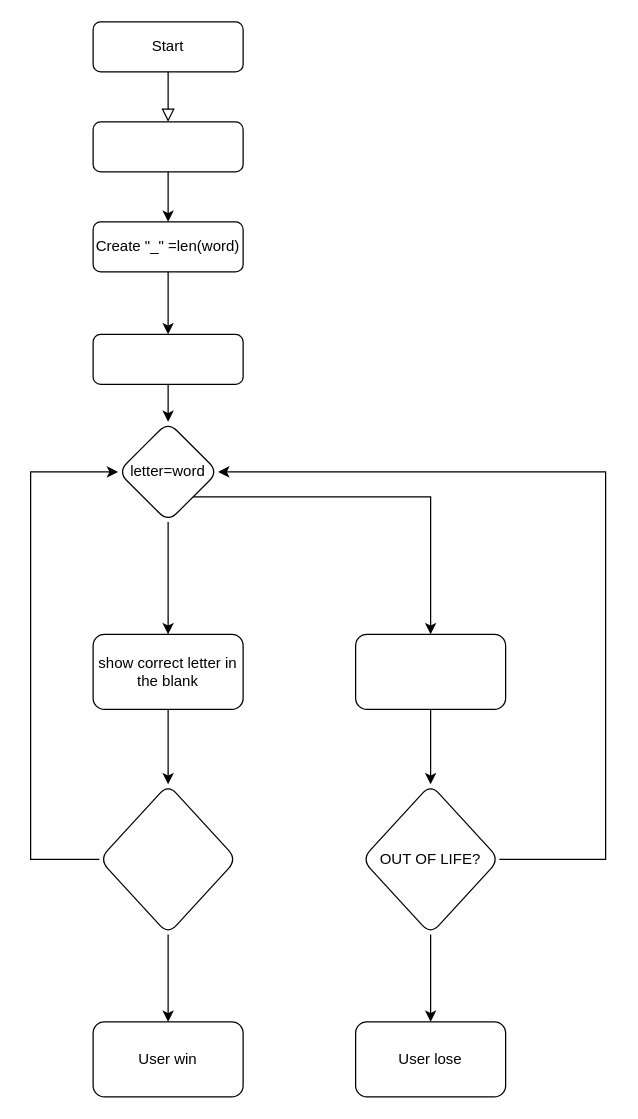
Some shapes in this 638 by 1119 pixel diagram are drawn without their labels. The shapes that lost their labels are listed below. From the top down, each one's centre as x and y in pixels, then its label:
At [167,146]: "Generate random word".
At [167,358]: "User input a letter".
At [430,671]: "Draw 1 line hangman".
At [167,858]: "All blank filled?".
